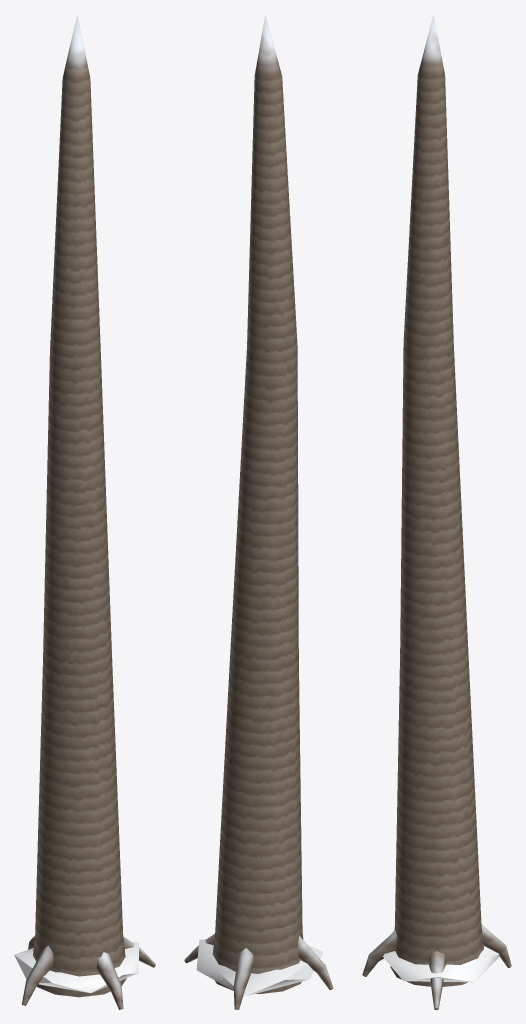
File: pine_snow_trunk.gltf
3 views of the same model, side by side, from view 1: azimuth 30°, elevation 25°; view 2: azimuth 150°, elevation 25°; view 3: azimuth 270°, elevation 25° (orthographic).
Visible parts, largest first — view 1: pine_snow_trunk; view 2: pine_snow_trunk; view 3: pine_snow_trunk.
Part boxes in pixels (left/top/right/bottom): pine_snow_trunk: left=14, top=14, right=155, bottom=1009; pine_snow_trunk: left=184, top=14, right=333, bottom=1009; pine_snow_trunk: left=362, top=14, right=511, bottom=1009.
Size of the model in its own units: 1.41 by 9.27 by 1.31.
1 material, 1 textured.
